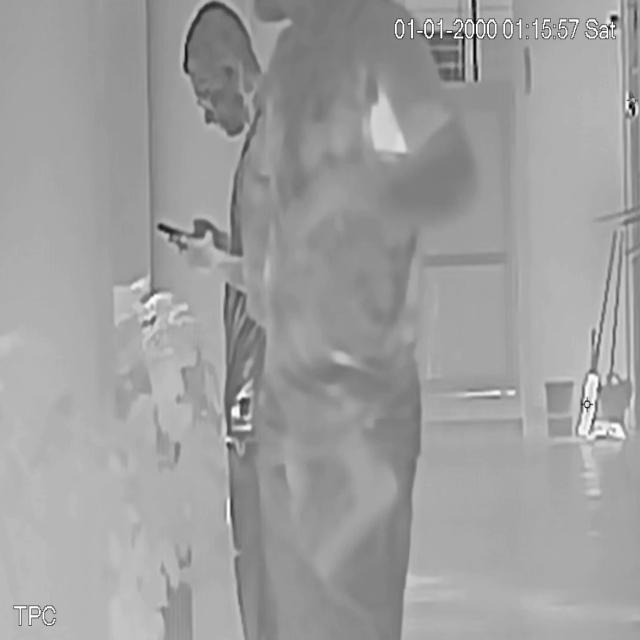Weapon: (308, 420, 408, 590)
